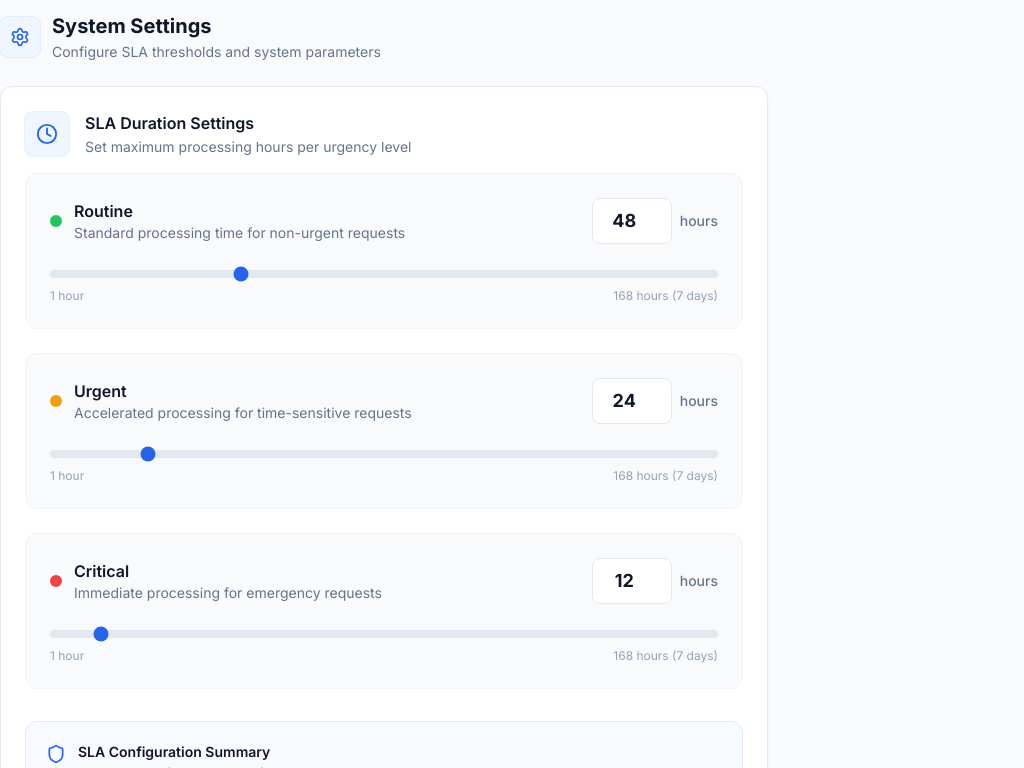
AdminSettings › clamps values to min 1 and max 168
Replace the text in the 1st number field with "0" at coordinates (632, 221), box top-left (592, 198), bottom-right (672, 244)
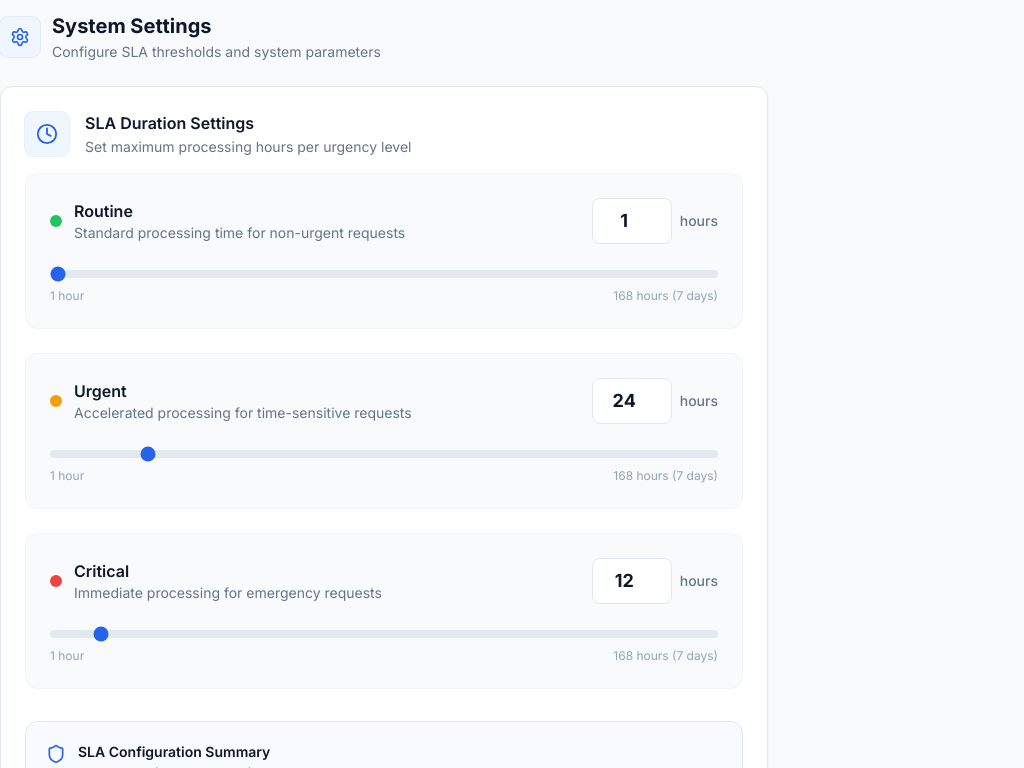
Now the 1st number field holds "1"
Replace the text in the 1st number field with "200" at coordinates (632, 221), box top-left (592, 198), bottom-right (672, 244)
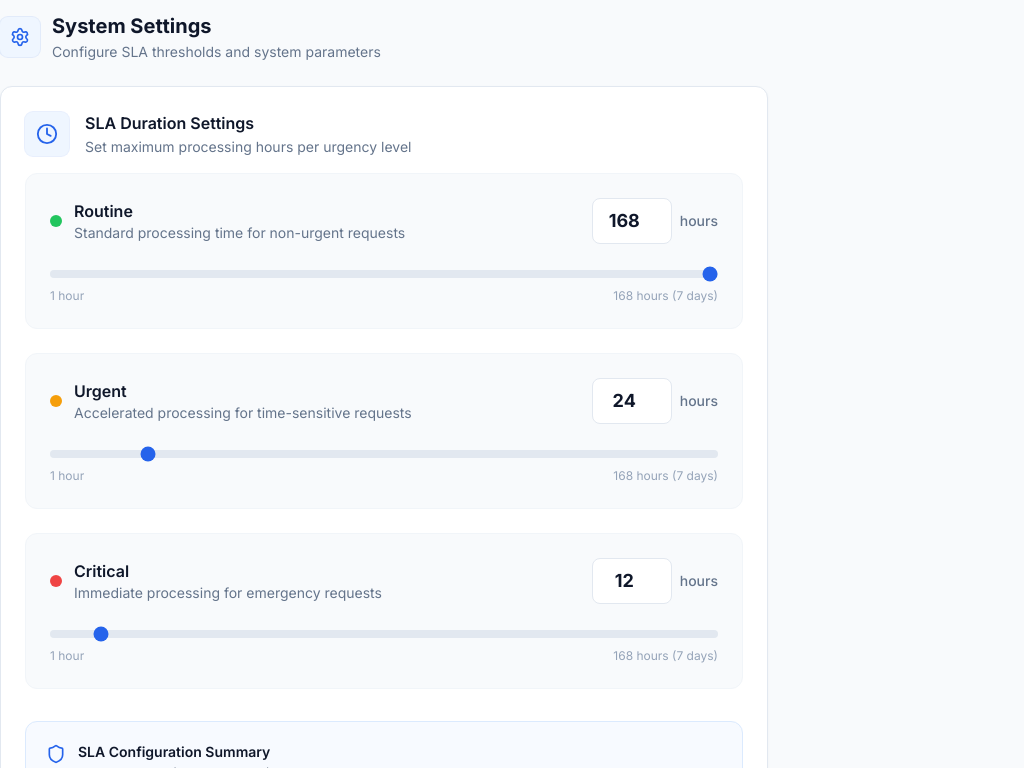
Now the 1st number field holds "168", box top-left (592, 198), bottom-right (672, 244)
